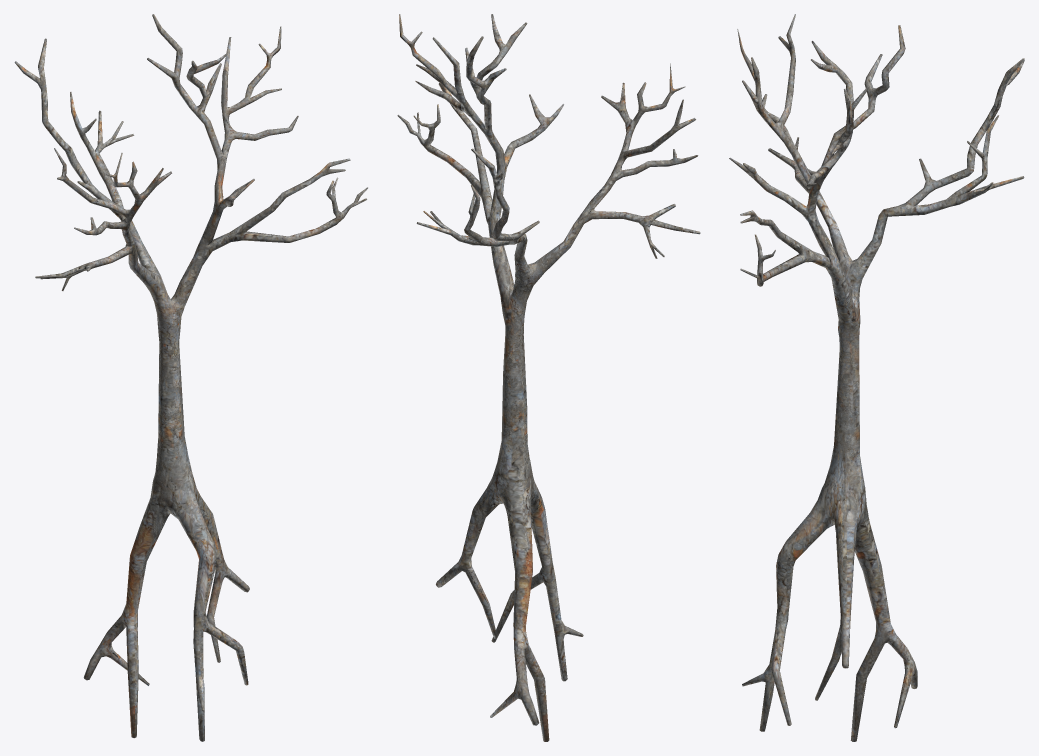
Rendered from tree_maple.fbx.
3 views of the same model, side by side, from view 1: azimuth 30°, elevation 25°; view 2: azimuth 150°, elevation 25°; view 3: azimuth 270°, elevation 25° (orthographic). The views are drawn at different scales.
Parts seen in each view (by area): view 1: tree_maple; view 2: tree_maple; view 3: tree_maple.
Boxes of the visible parts, left/top/right/bottom form: tree_maple: left=14, top=14, right=367, bottom=741; tree_maple: left=397, top=14, right=700, bottom=741; tree_maple: left=729, top=14, right=1024, bottom=741.
Bounding box in the file's own units: 2556 × 5420 × 1969.
Materials: 1 (1 with a texture image).
